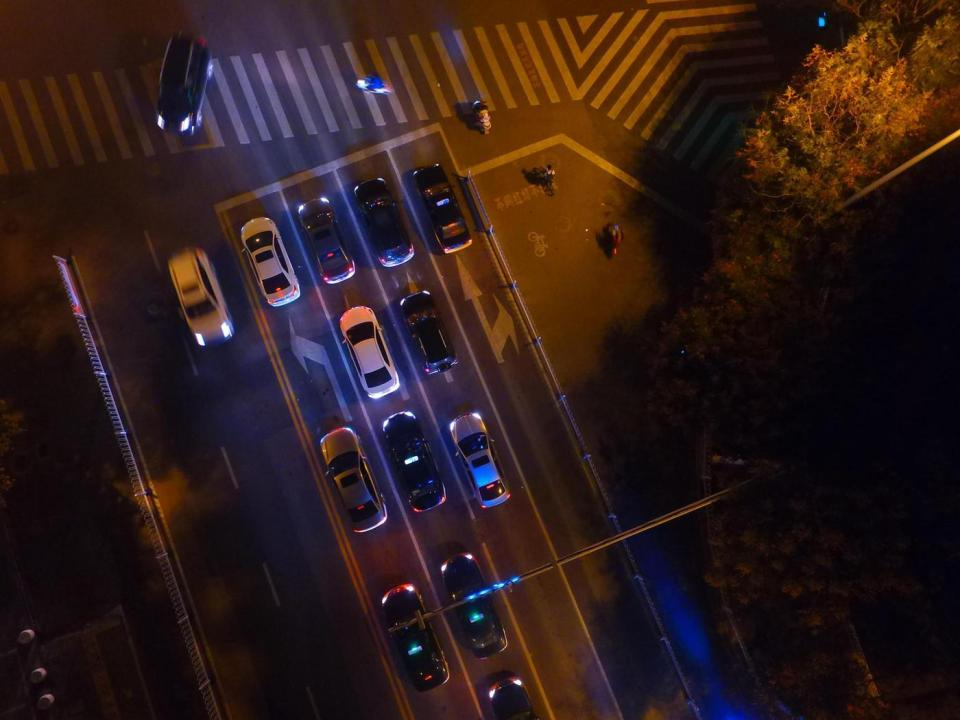car: (382, 583, 447, 690), (442, 552, 506, 660), (321, 426, 385, 533), (167, 247, 234, 343), (382, 412, 446, 512), (449, 416, 512, 512), (157, 34, 215, 138), (238, 216, 300, 306), (340, 304, 399, 398), (396, 288, 458, 376), (352, 179, 414, 266), (410, 165, 471, 252), (294, 196, 355, 283), (488, 675, 536, 720)
